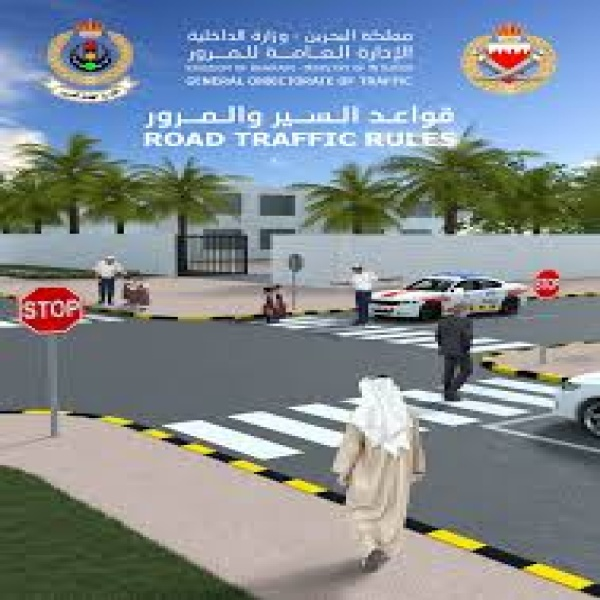stop: (14, 285, 83, 338)
